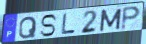2: (82, 10, 99, 35)
L: (60, 13, 76, 36)
M: (98, 8, 123, 32)
P: (120, 6, 142, 32)
Q: (17, 16, 38, 40)
S: (39, 14, 59, 38)
